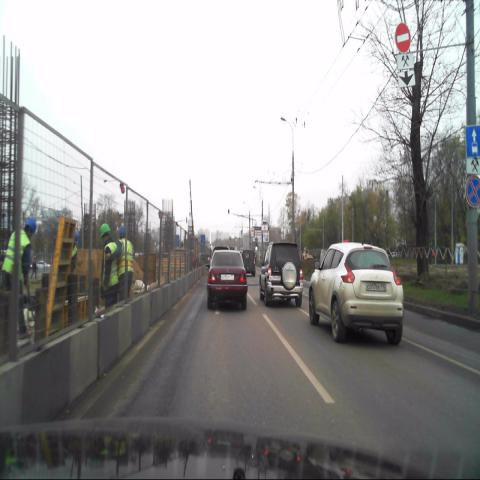5_14: (466, 126, 480, 157)
